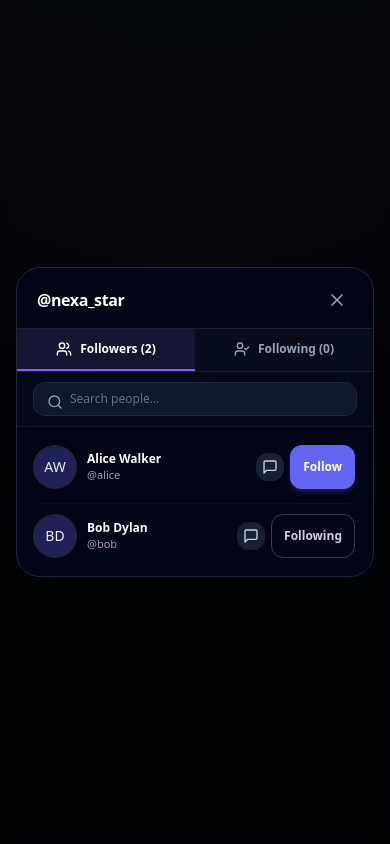
FollowersFollowingModal Component Suite › filters users based on live search query
expect the text "Alice Walker" is shown: met, box [87,451,161,467]
expect the text "Bob Dylan" is shown: met, box [87,520,148,536]
Type "alice" into the field with placeholder "Search people..." at (195, 399), box [33,382,357,416]
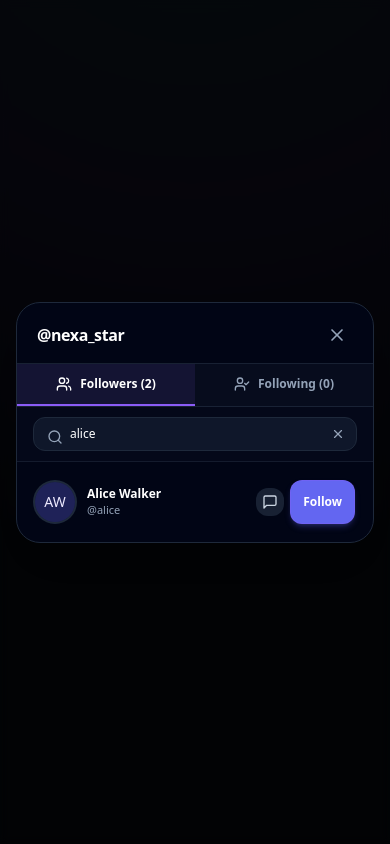
expect the text "Alice Walker" is shown: met, box [87,485,161,501]
expect the text "Bob Dylan" is gone: met
